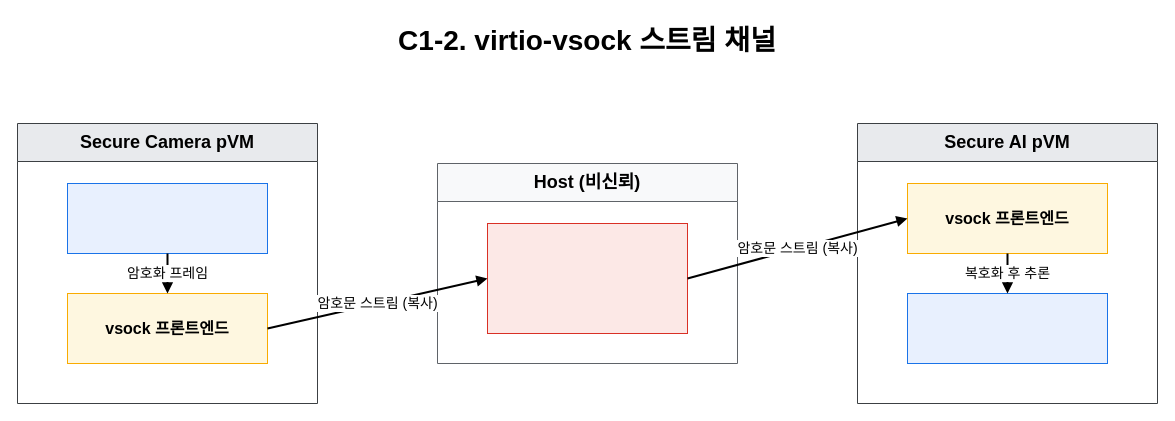
Some shapes in this 1175 by 421 pixel diagram are drawn without their labels. Each missing label, with the centre of its shape:
"vsock 백엔드/스위치 (암호문 스트림만 중계, 평문 접근 불가)" belongs at pixel 587 278.
"프레임 복호화 + 추론" belongs at pixel 1007 328.
"프레임 암호화" belongs at pixel 167 218.
